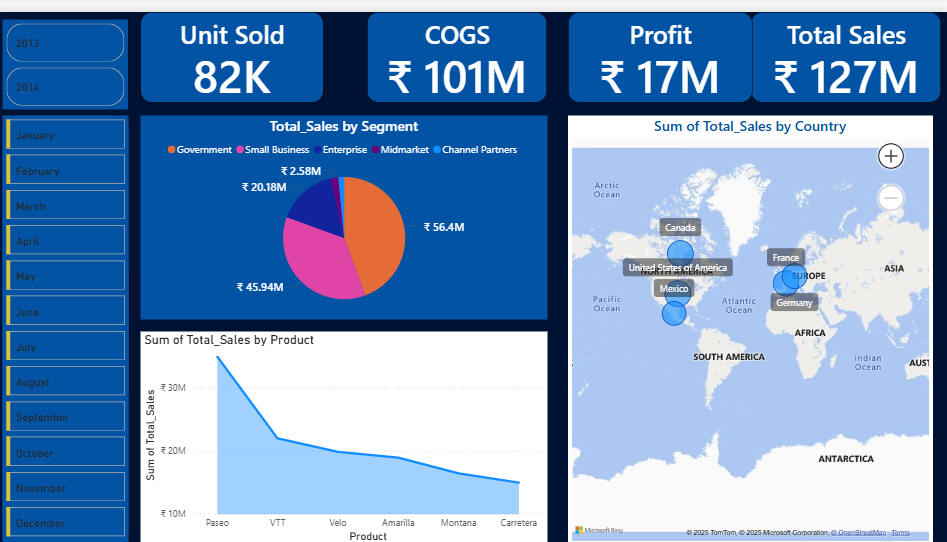

The page's visual inventory and layout, read from the dashboard file:
{"tool":"powerbi","page":{"name":"Page 1","canvas":[1280,720],"ordinal":0},"visuals":[{"type":"card","title":"Total Sales","fields":{"Values":["Sum(new.Total_Sales)"]},"box":[1012.9,0,253.2,120.9],"z":0},{"type":"card","title":"Unit Sold","fields":{"Values":["Sum(new.Unit Sold)"]},"box":[198.4,0,243.8,120.9],"z":1000},{"type":"card","title":"COGS","fields":{"Values":["Sum(new. COGS )"]},"box":[500.8,0,240,120.9],"z":2000},{"type":"card","title":"Profit","fields":{"Values":["Sum(new. Profit )"]},"box":[767.2,0,245.7,120.9],"z":3000},{"type":"shape","box":[13.2,138,168.2,572.6],"z":4000},{"type":"advancedSlicerVisual","fields":{"Values":["new.Date.Variation.Date Hierarchy.Month"]},"box":[13.2,138,168.2,572.6],"z":5000},{"type":"areaChart","fields":{"Y":["Sum(new.Total_Sales)"],"Category":["new. Product "]},"box":[198.4,425.2,542.4,285.4],"z":6000},{"type":"pieChart","title":"Total_Sales by Segment","fields":{"Category":["new.Segment"],"Y":["Sum(new.Total_Sales)"]},"box":[198.4,138,542.4,272.1],"z":6001},{"type":"map","fields":{"Category":["new.Country"],"Size":["Sum(new.Total_Sales)"]},"box":[767.2,138,485.7,572.6],"z":6002},{"type":"advancedSlicerVisual","fields":{"Values":["new.Year"]},"box":[13,10,167,120],"z":6003}]}

Visuals, with their boxes in screenshot pixels (x1, y1, x2, y2), scaled from the page's 1280x720 canvas onto the 947x542 screenshot:
"Total Sales" card: [749,0,937,91]
"Unit Sold" card: [147,0,327,91]
"COGS" card: [371,0,548,91]
"Profit" card: [568,0,749,91]
shape: [10,104,134,535]
advancedSlicerVisual - new.Date.Variation.Date Hierarchy.Month: [10,104,134,535]
areaChart - Sum(new.Total_Sales) x new. Product : [147,320,548,535]
"Total_Sales by Segment" pieChart: [147,104,548,309]
map - new.Country x Sum(new.Total_Sales): [568,104,927,535]
advancedSlicerVisual - new.Year: [10,8,133,98]
